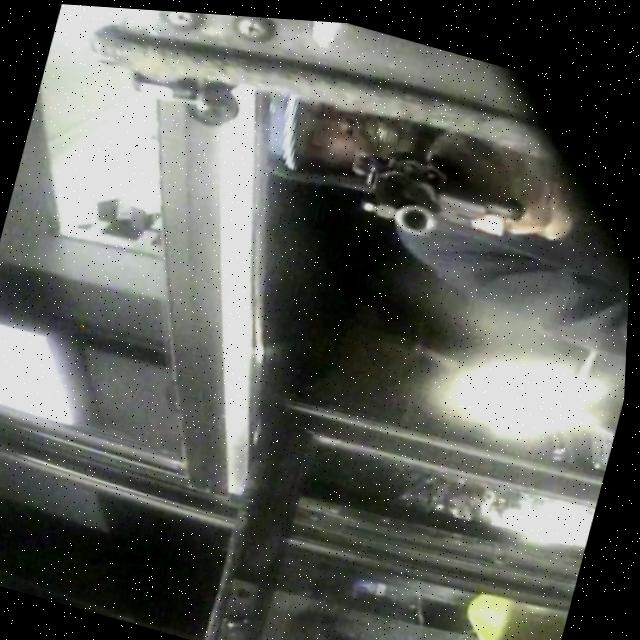pistol: (342, 131, 522, 247)
